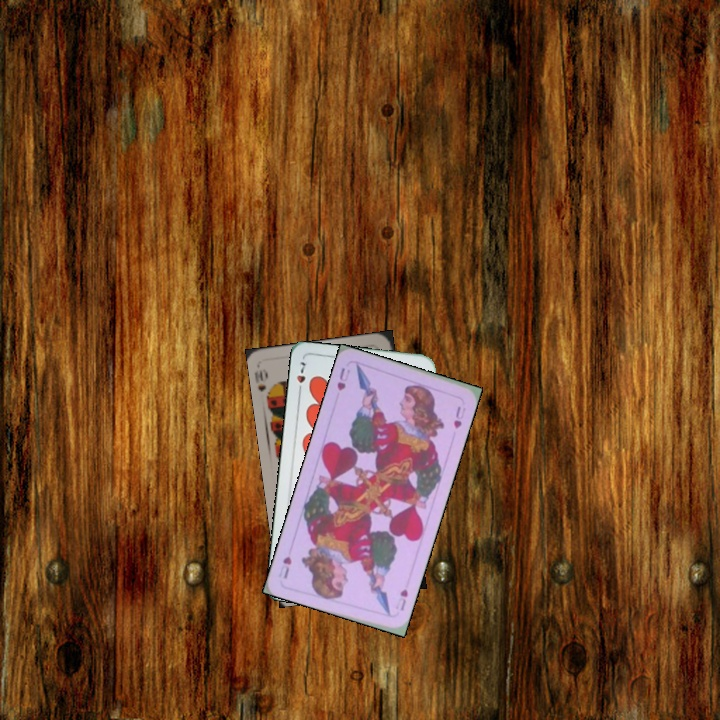H7: (293, 358, 308, 397)
HU: (333, 364, 353, 393), (391, 585, 410, 613)
S10: (251, 365, 274, 403)
